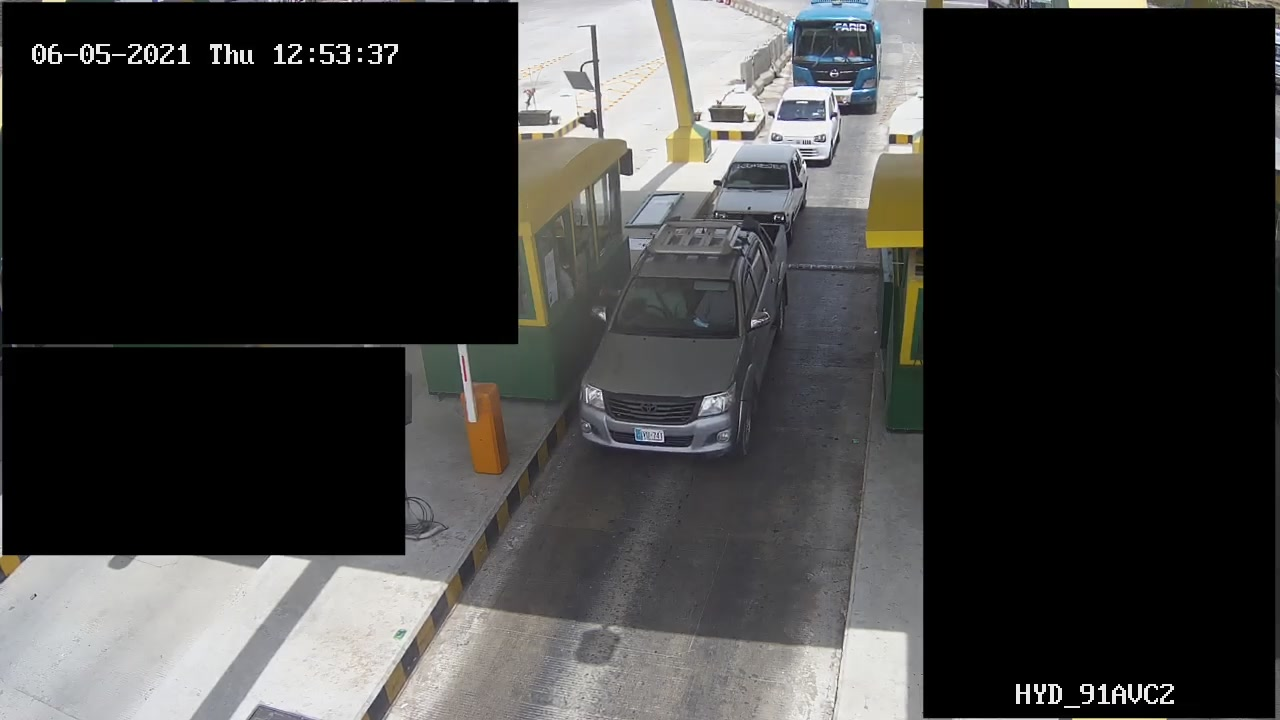F1: (576, 207, 792, 465)
